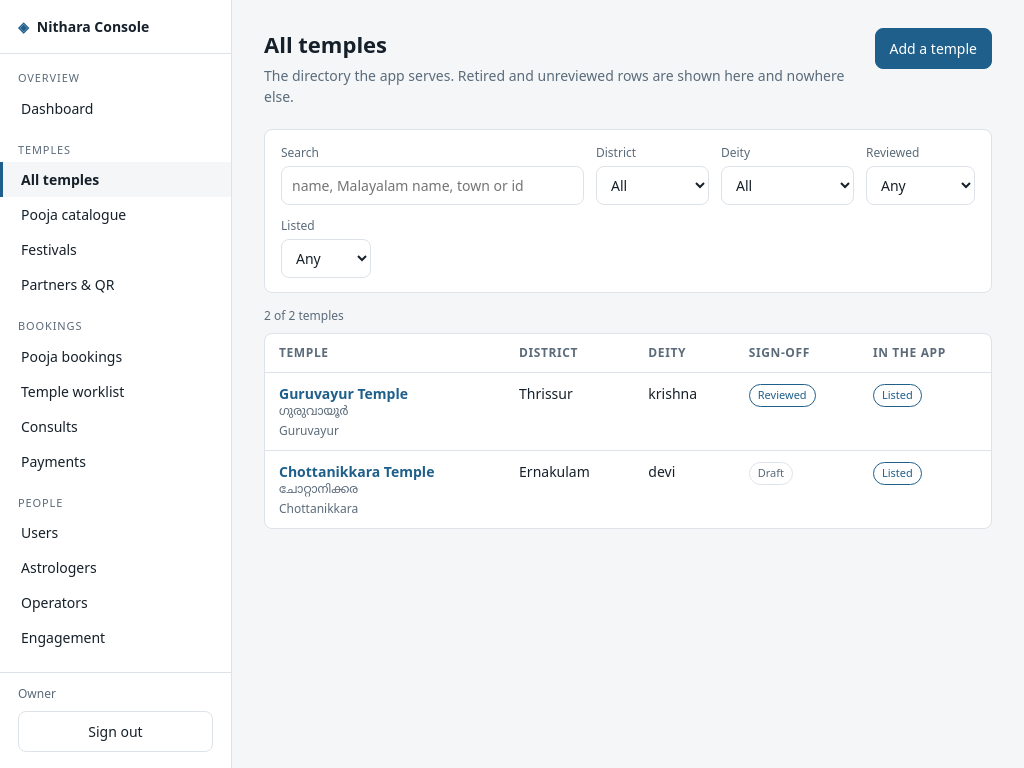
Test: the directory list › finds the drafts that still need an astrologer
Expected: the link "Guruvayur Temple" is shown, [279,384,408,403]
Select "Not yet" in the dropdown labelled "Reviewed": (920, 186) [866,166,975,205]
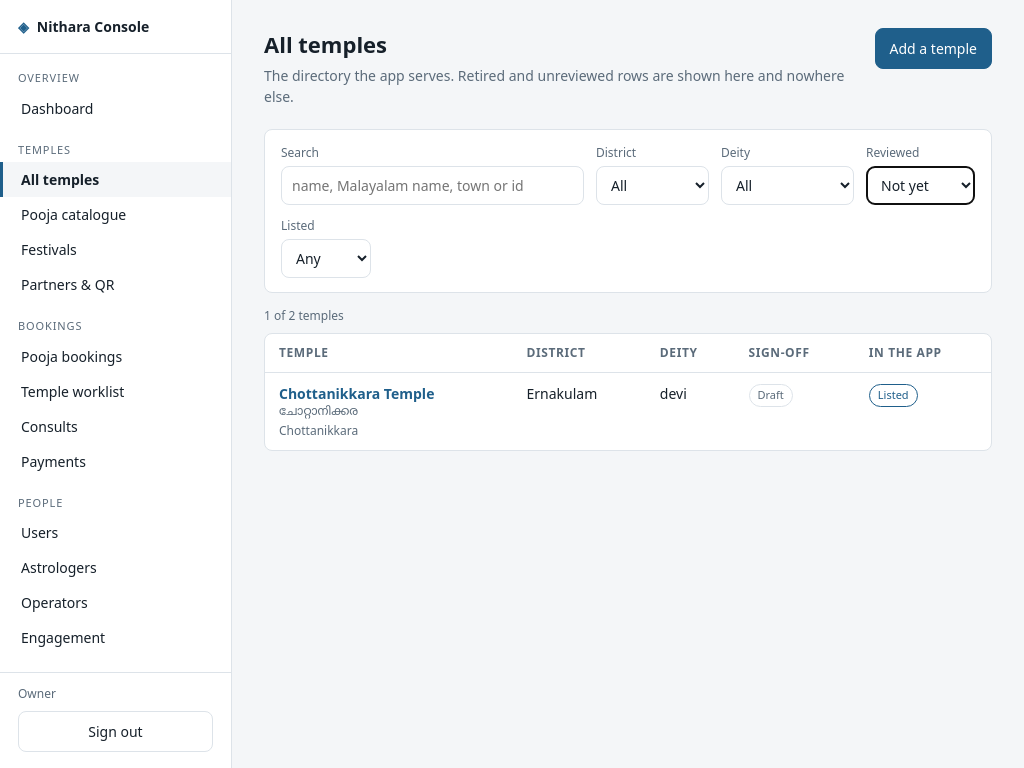
Expected: the link "Chottanikkara Temple" is shown, [279,384,434,403]
Now the text "1 of 2 temples" is shown, box [264,307,344,324]
